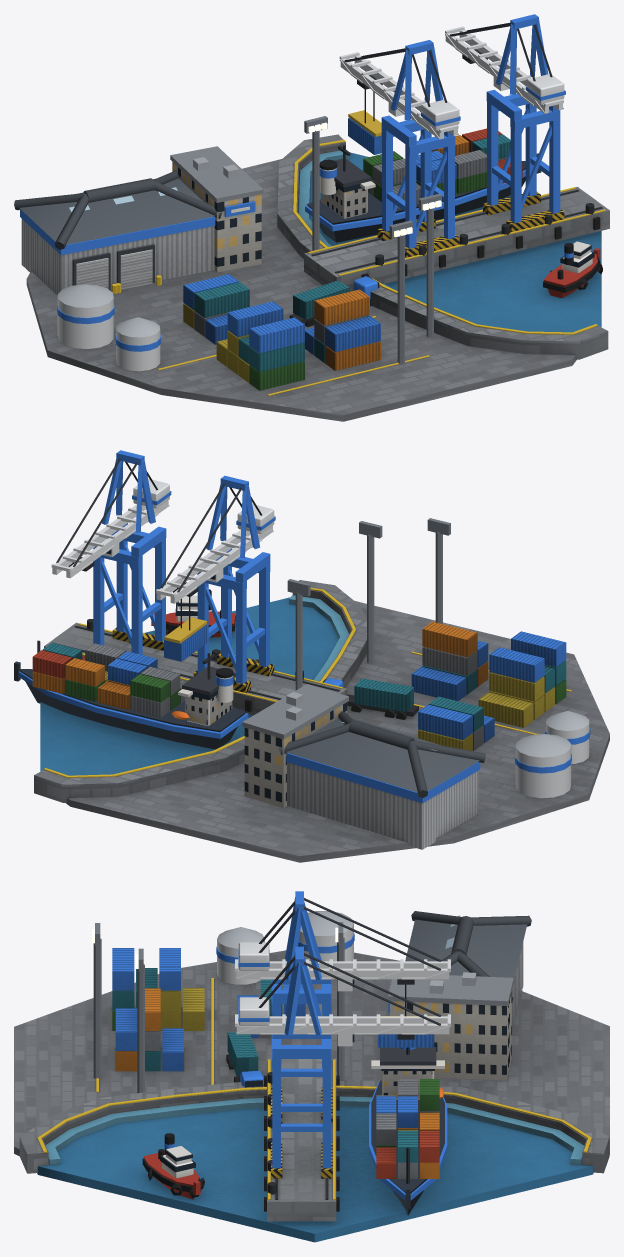
The model's file is port_modern_blue.glb.
The picture shows the model from 3 angles, top to bottom: view 1: azimuth 30°, elevation 25°; view 2: azimuth 150°, elevation 25°; view 3: azimuth 270°, elevation 25°; orthographic projection. The views are drawn at different scales.
Visible parts, largest first — view 1: port_modern_blue; view 2: port_modern_blue; view 3: port_modern_blue.
Part boxes in pixels (bbox=[...]): port_modern_blue: bbox=[14, 14, 609, 421]; port_modern_blue: bbox=[14, 450, 609, 862]; port_modern_blue: bbox=[14, 891, 609, 1242].
Size of the model in its own units: 1.58 by 0.624 by 1.37.
2 materials, 1 textured.
